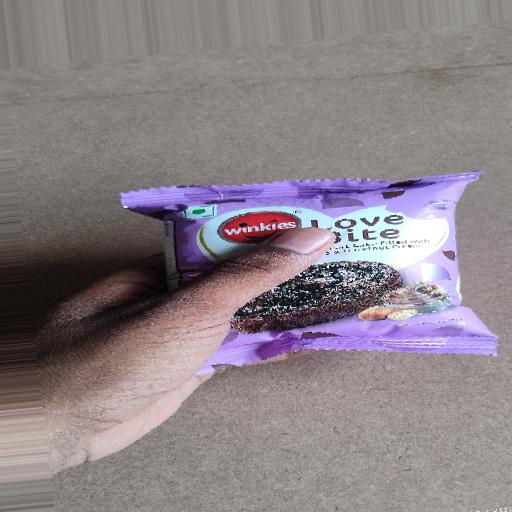Winkies Love Bite cake: (102, 153, 509, 400)
